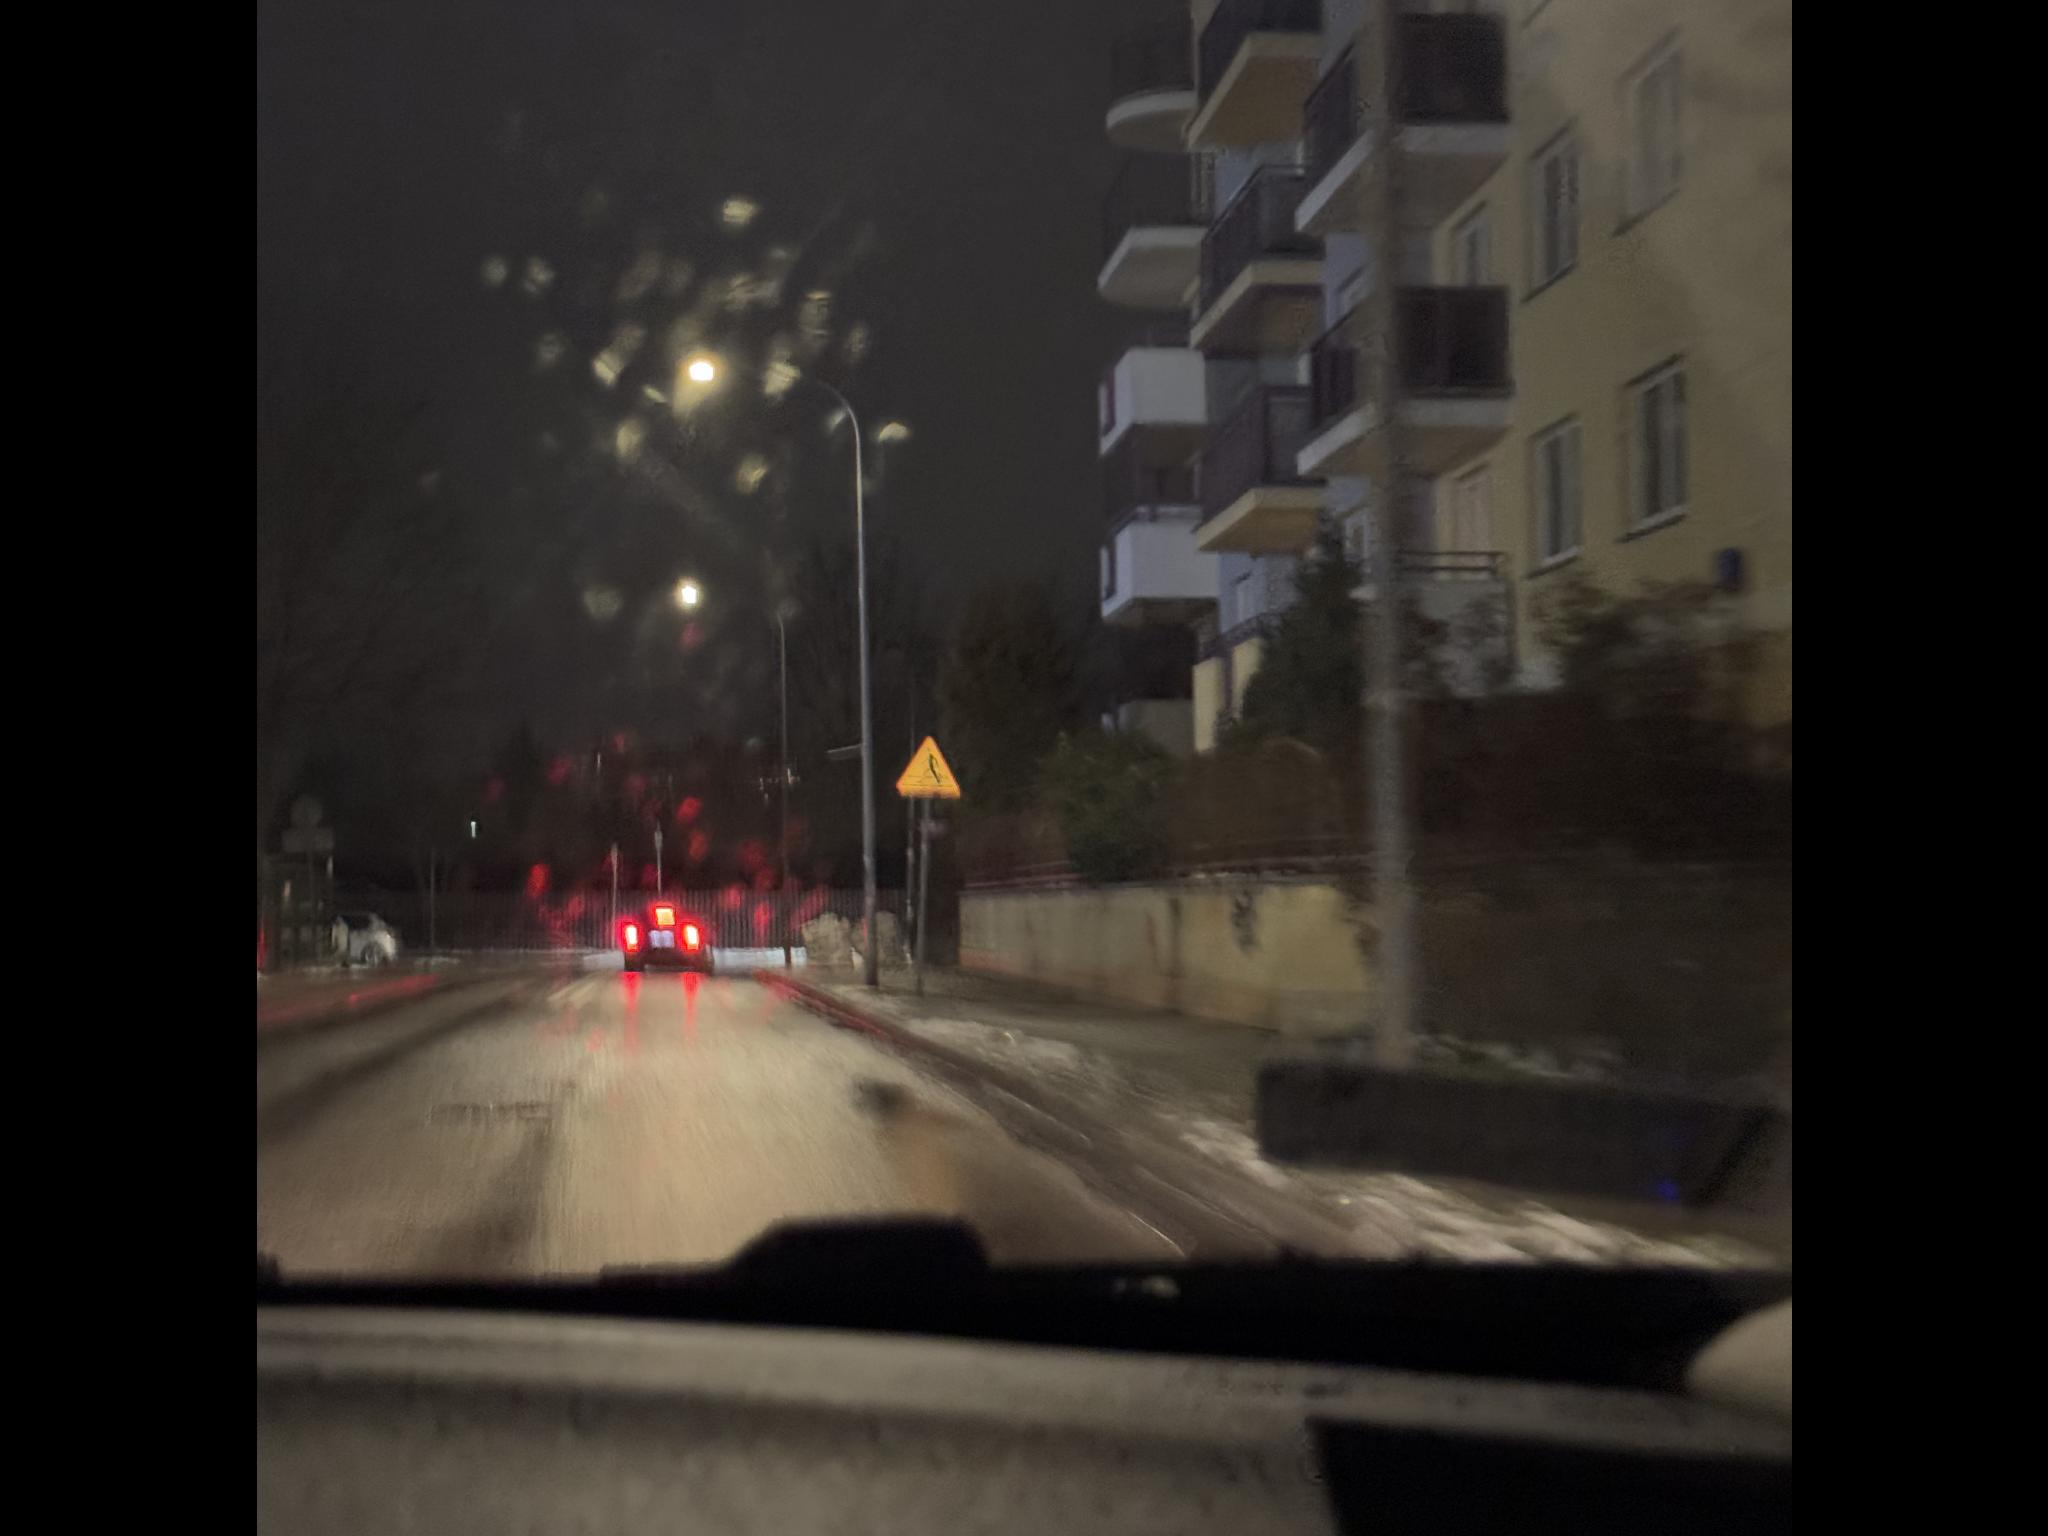warning: (739, 382, 800, 449)
